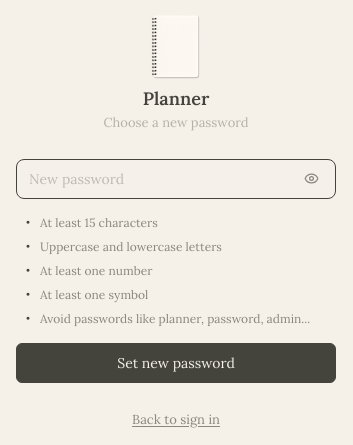
Test: ResetPasswordPage › updates the password requirements while typing
Step 1. Type "Correct-horse-battery-staple-2" into the password field with placeholder "New password" → (160, 178), box [29, 168, 291, 188]
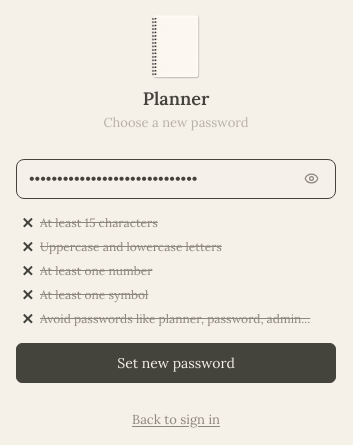
Expected: the list item with aria-label "At least 15 characters: met" shows "×", [21, 206, 35, 238]
Expected: the list item with aria-label "Avoid passwords like planner, password, admin...: met" shows "×", [21, 302, 35, 334]
Expected: the list item with aria-label "At least one number: met" shows "×", [21, 254, 35, 286]
